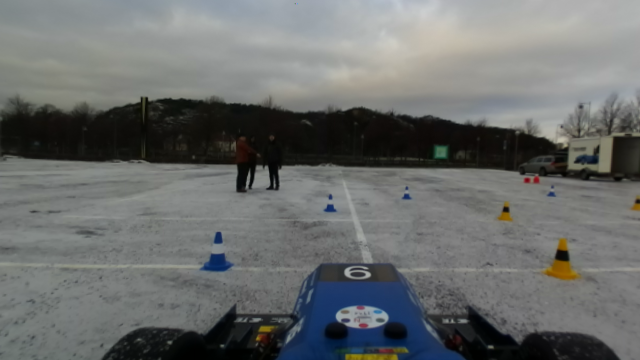blue: (199, 232, 236, 273)
yellow: (544, 237, 582, 283)
